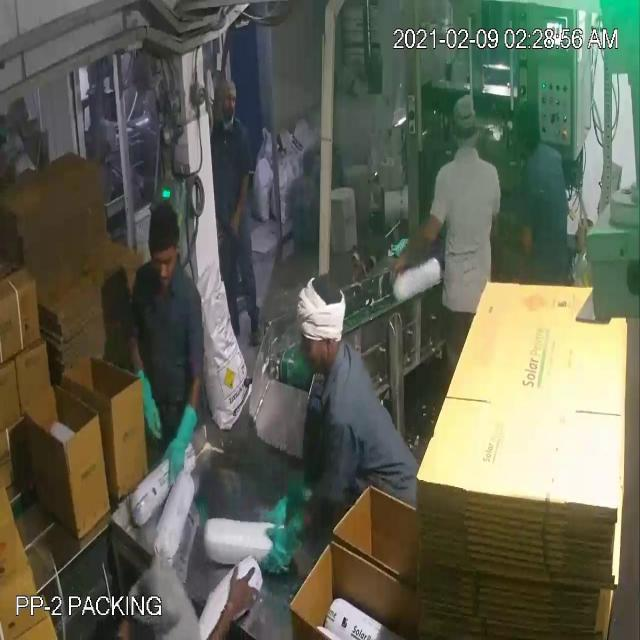Gloves: (35, 57, 412, 595)
